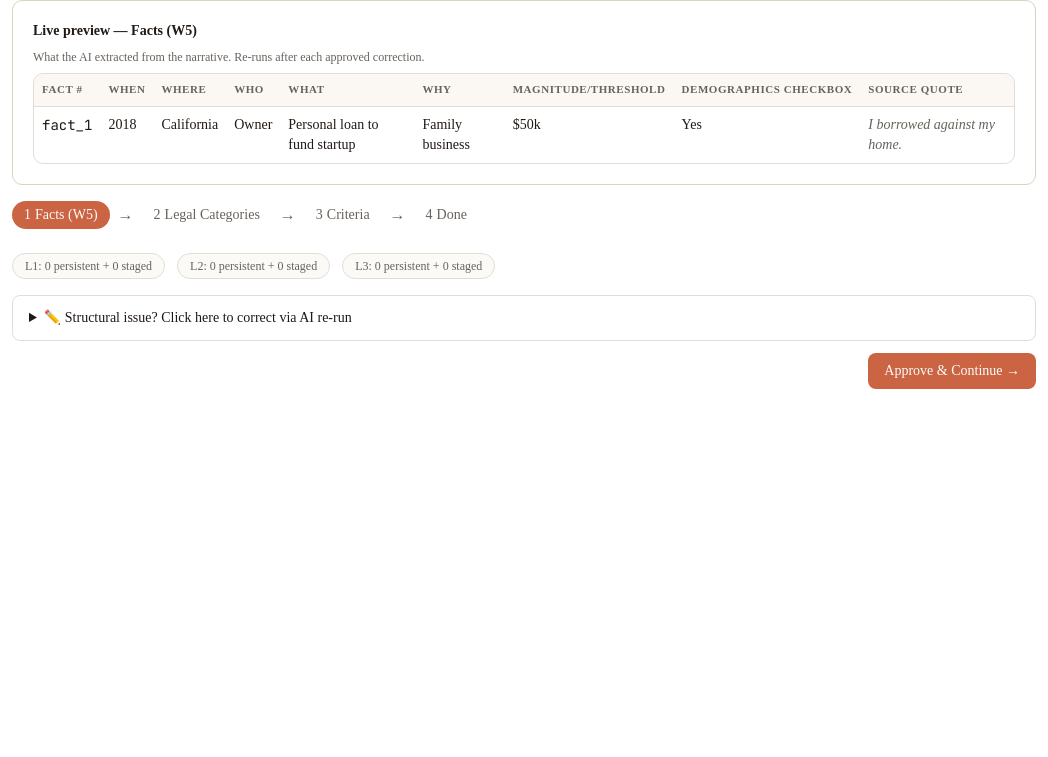
Test case: CucpStepper › surfaces a user-visible error when L2 Approve & Continue POST returns 4xx
The width and height of the screenshot is (1048, 757).
Expected: the text "L1: 0 persistent + 0 staged" is shown, [12,253,165,279]
Click the button "Approve & Continue →": {"x": 952, "y": 371} [868,353,1036,389]
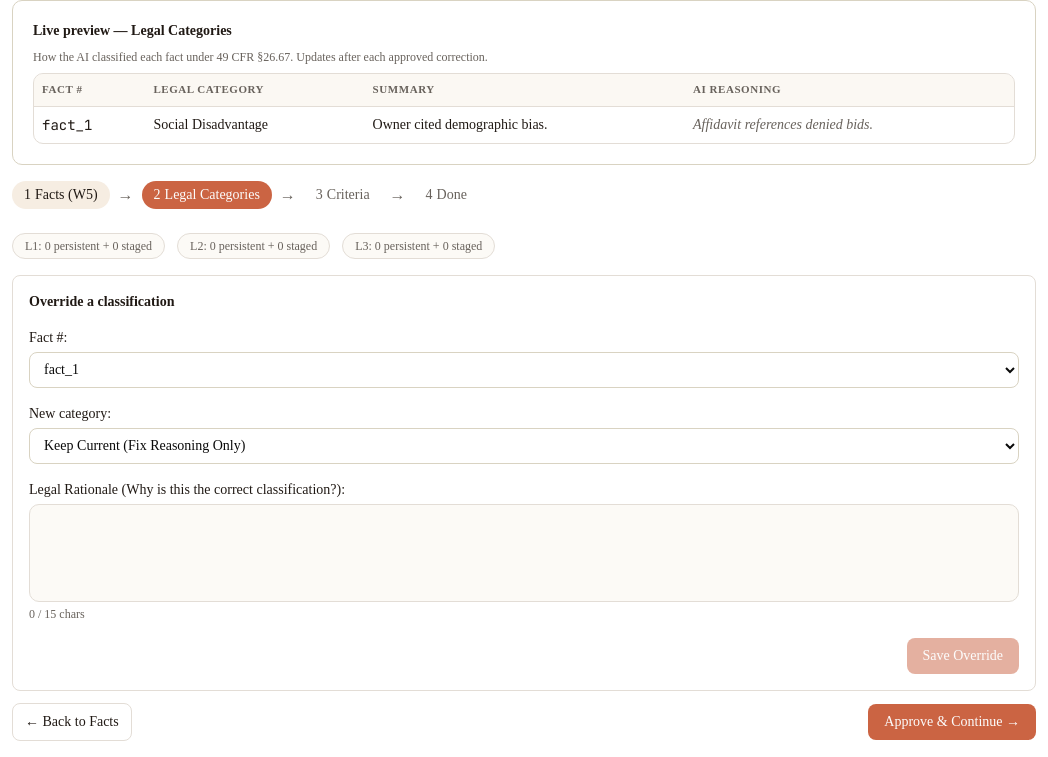
Now the column heading "Legal Category" is shown, box [145,74,365,106]
Click the button "Approve & Continue →": {"x": 952, "y": 722} [868,704,1036,740]
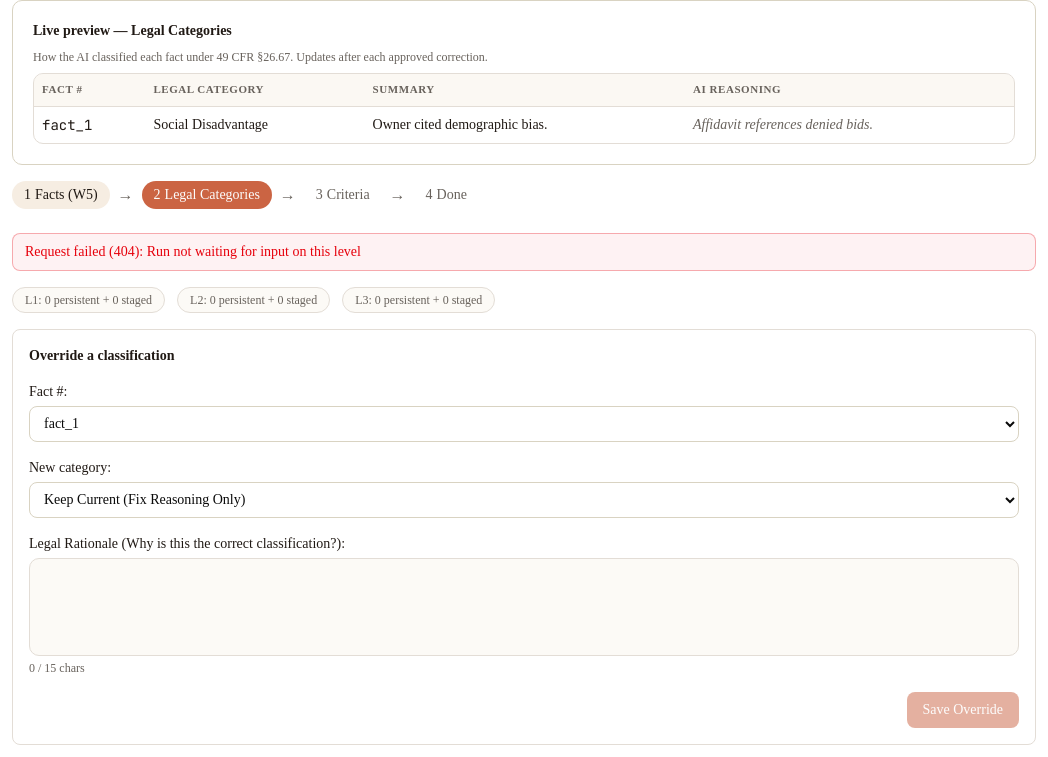
Now the text "Request failed (404): Run not waiting for input on this level" is shown, box [12,233,1036,271]
